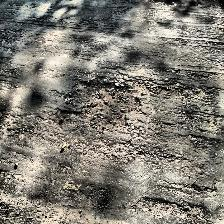pothole: (60, 77, 144, 131), (136, 196, 186, 218)
